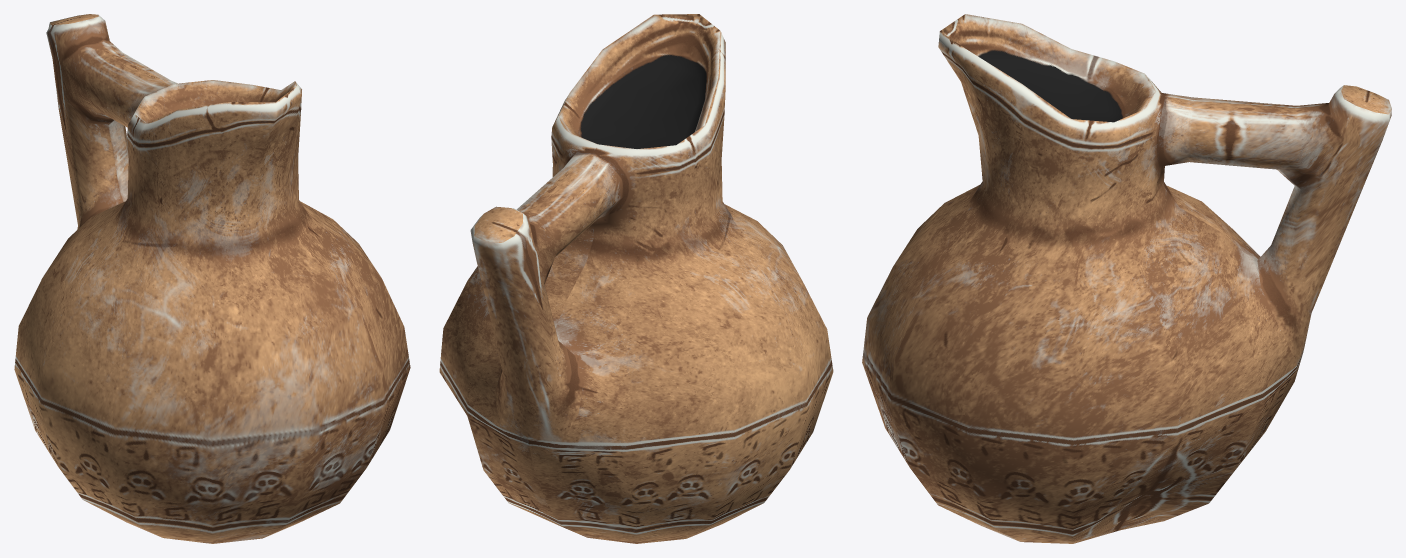
File: LI_TEMP_Cru.FBX
3 views of the same model, side by side, from view 1: azimuth 30°, elevation 25°; view 2: azimuth 150°, elevation 25°; view 3: azimuth 270°, elevation 25° (orthographic). The views are drawn at different scales.
Visible parts, largest first — view 1: LI_TEMP_Cru_LOD0; view 2: LI_TEMP_Cru_LOD0; view 3: LI_TEMP_Cru_LOD0.
Boxes of the visible parts, x1,y1,x2,y2 form: LI_TEMP_Cru_LOD0: [14, 14, 410, 543]; LI_TEMP_Cru_LOD0: [439, 14, 833, 543]; LI_TEMP_Cru_LOD0: [862, 14, 1391, 543].
Size of what is drawn, in the model's own units: 31.73 by 39.49 by 40.05.
1 material, 1 textured.
